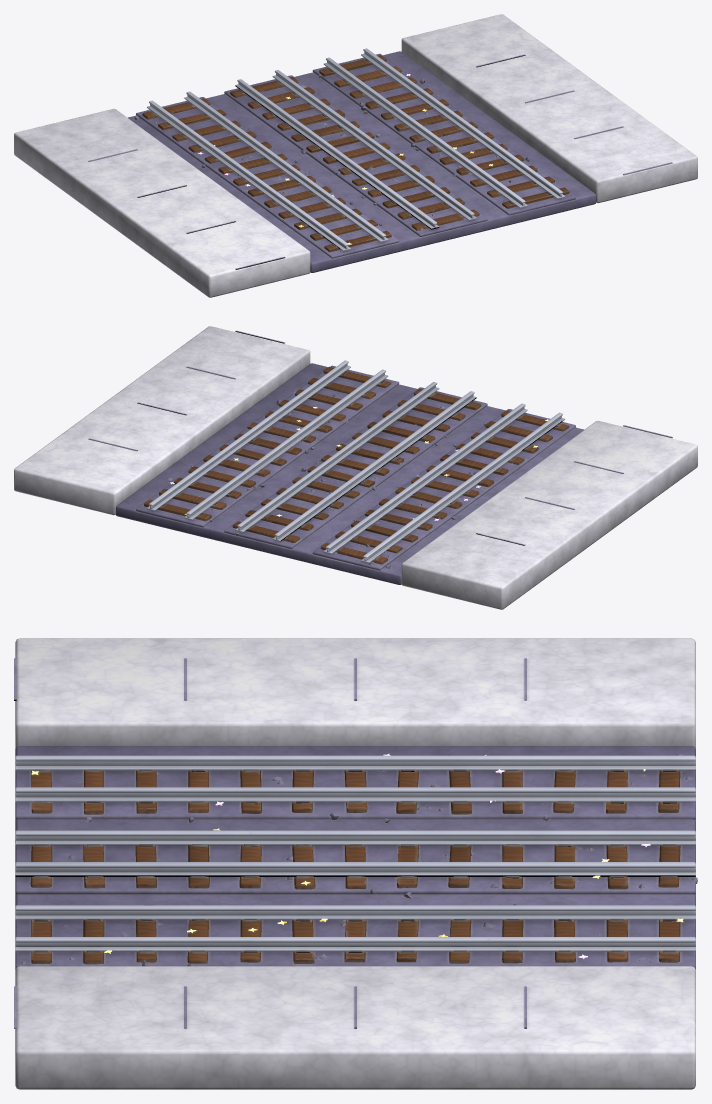
Rendered from sf_track_segment.glb.
The picture shows the model from 3 angles, top to bottom: view 1: azimuth 30°, elevation 25°; view 2: azimuth 150°, elevation 25°; view 3: azimuth 270°, elevation 25°; orthographic projection. The views are drawn at different scales.
Parts seen in each view (by area): view 1: sf_track_segment; view 2: sf_track_segment; view 3: sf_track_segment.
Boxes of the visible parts, x1,y1,x2,y2 form: sf_track_segment: (14, 14, 697, 297); sf_track_segment: (14, 326, 697, 609); sf_track_segment: (14, 638, 697, 1089).
Size of the model in its own units: 14.4 by 0.665 by 10.05.
Materials: 7 (7 with a texture image).
